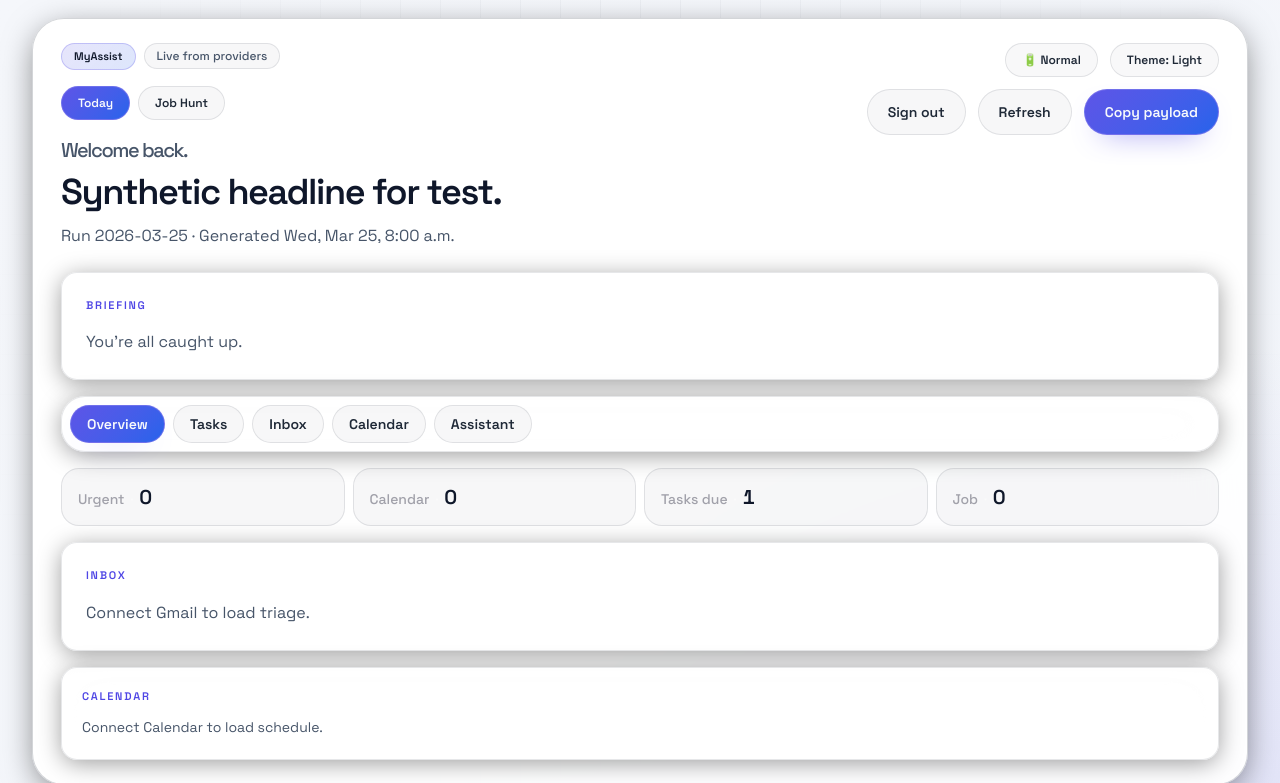
it: Dashboard › shows failed integration feedback when the actions API reports ok false
The image size is (1280, 783).
Click the button "Inbox": (288, 424) x1=252 y1=405 x2=324 y2=443
(page scrolled)
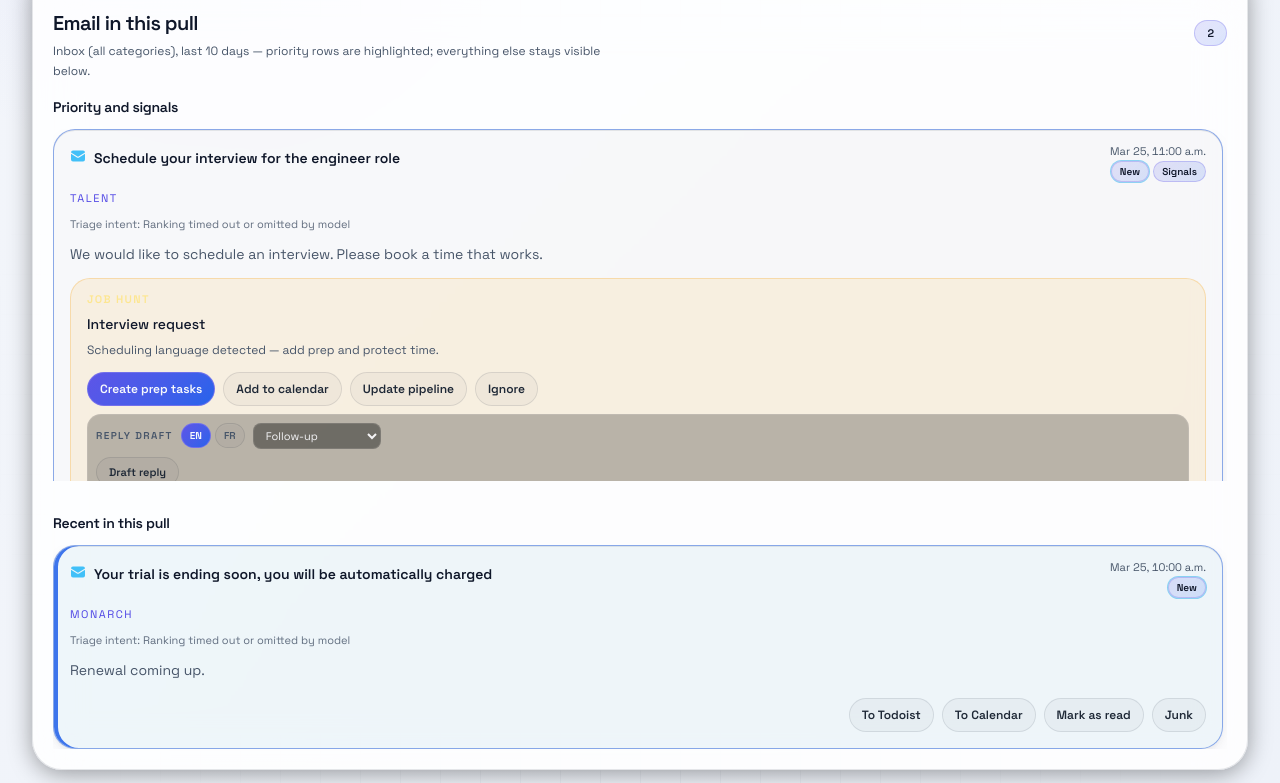
Click the button "To Todoist": (891, 715) x1=849 y1=698 x2=934 y2=732
(page scrolled)
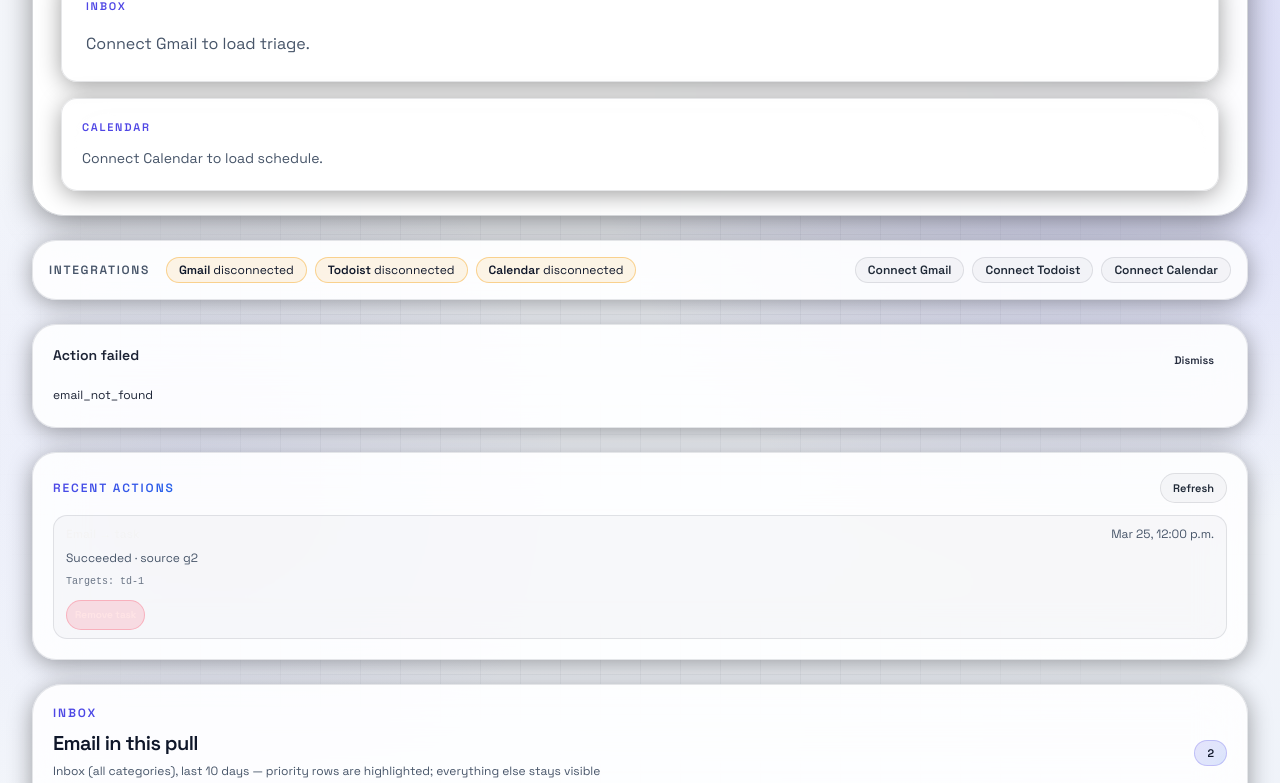
Result: the text "Action failed" is shown at x1=53 y1=345 x2=139 y2=365
Result: the text "email_not_found" is shown at x1=53 y1=387 x2=153 y2=403
